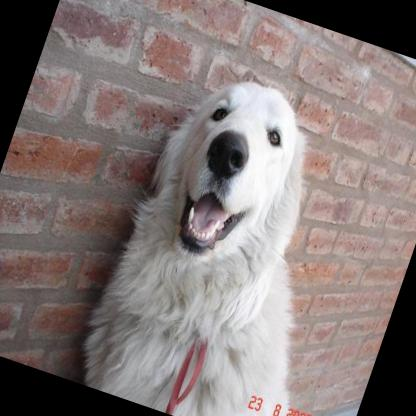kuvasz: (65, 50, 406, 416)
